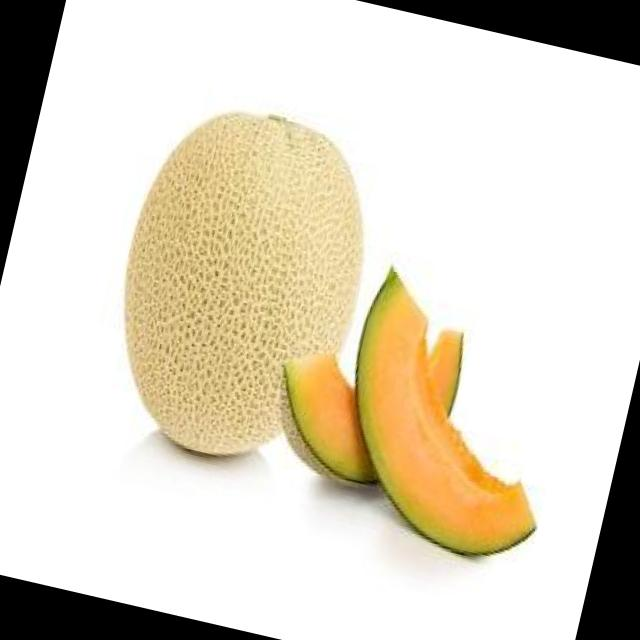cantaloupe: (87, 86, 396, 482), (318, 258, 588, 572)
